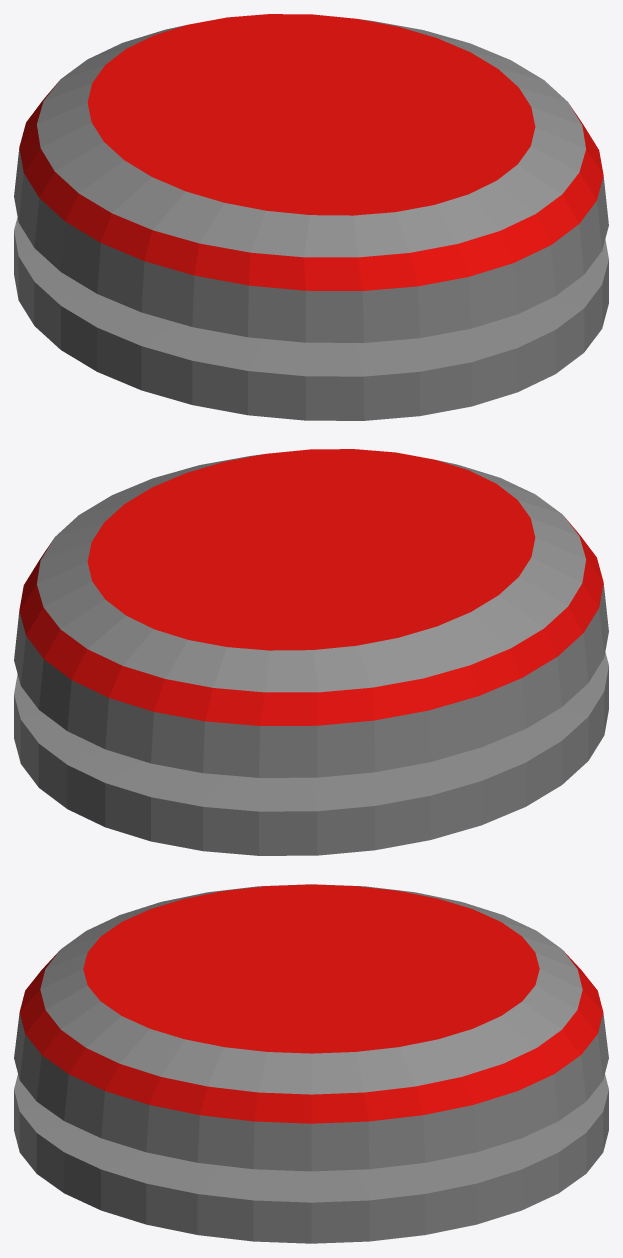
The model's file is robothead.fbx.
3 views of the same model, one above another, from view 1: azimuth 30°, elevation 25°; view 2: azimuth 150°, elevation 25°; view 3: azimuth 270°, elevation 25° (orthographic). The views are drawn at different scales.
Visible parts, largest first — view 1: Cylinder; view 2: Cylinder; view 3: Cylinder.
Part boxes in pixels (x1,y1,x2,y2): Cylinder: (14,14,608,420); Cylinder: (14,449,608,855); Cylinder: (14,884,608,1243).
Size of the model in its own units: 544 by 240 by 604.
